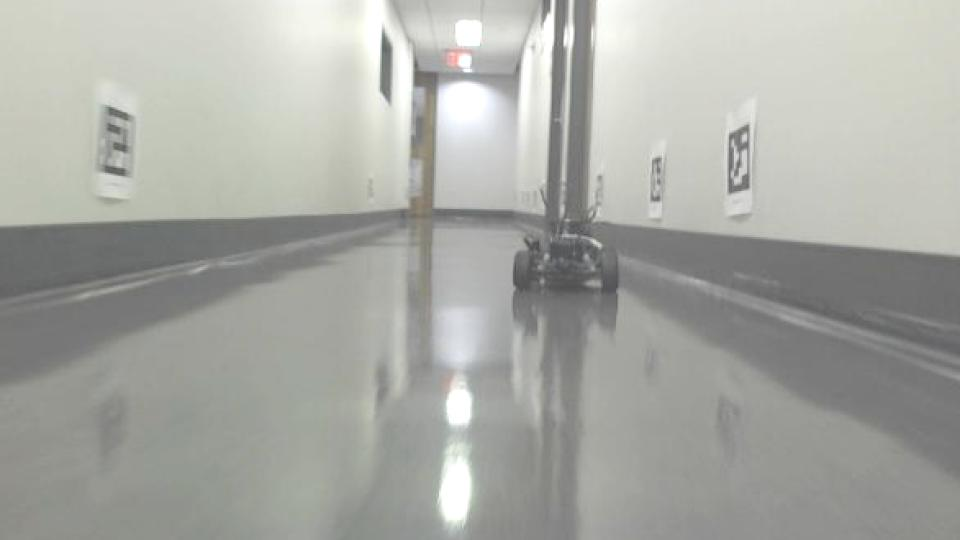car: (510, 179, 624, 298)
